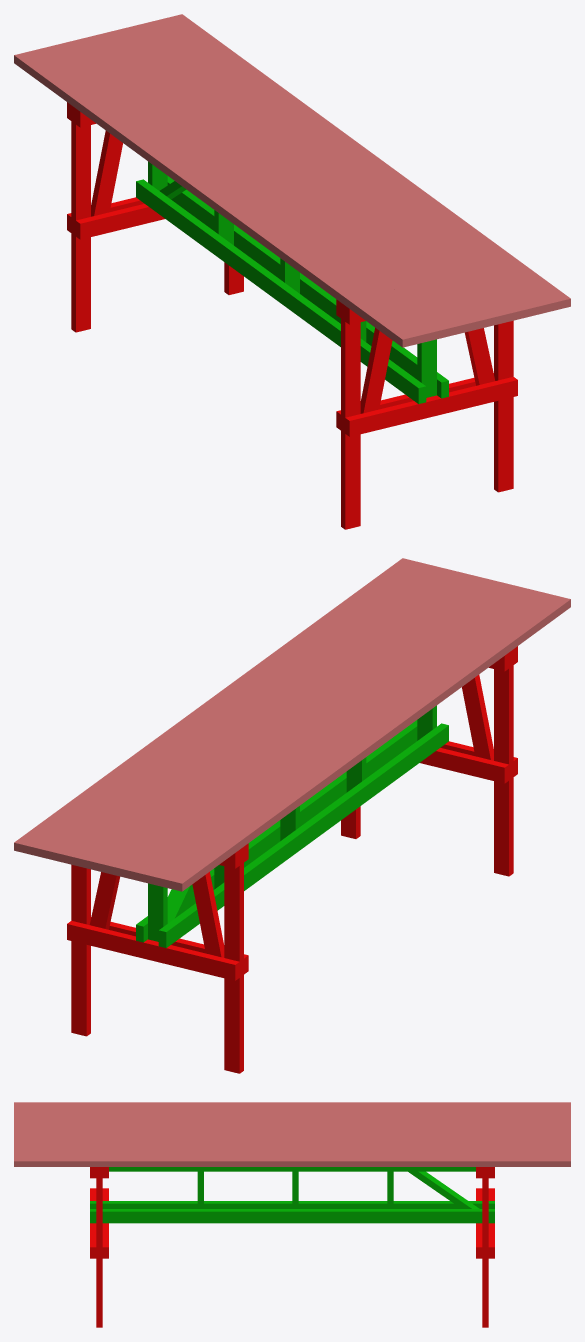
Rendered from result.glb.
3 renders of one model, top to bottom at view 1: azimuth 30°, elevation 25°; view 2: azimuth 150°, elevation 25°; view 3: azimuth 270°, elevation 25°, orthographic. The views are drawn at different scales.
Parts seen in each view (by area): view 1: 153c142e-4c3f-4437-ba18-6dc847d15246__Box, 3b492dfa-0148-4eca-9b37-8263c32f93e4__undefined, ff1ac09c-ed41-472f-8115-2061b1867826__undefined, 0976eb12-b027-47eb-9160-0bf002e135e6__undefined, b728457c-2e60-4694-9ccc-194f85446cb2__undefined, c7bb233d-7633-445a-a23d-edd0d2150dd2__undefined, d456789b-2543-49ef-a8cc-2dc8a175d5ac__undefined, e0387e18-4081-4a1e-be42-149b58d63504__undefined, 838b8b4c-b316-41e1-b98a-a965a472fc9f__undefined, 049cb40d-3da2-43ea-8db9-a3e9776c6d36__undefined, e0d9521e-8773-472a-b95b-06d625c52776__undefined, e1a9ec4c-1ab0-4561-b561-e5ddaacb80b7__strutH (+10 smaller); view 2: 153c142e-4c3f-4437-ba18-6dc847d15246__Box, 3b492dfa-0148-4eca-9b37-8263c32f93e4__undefined, ff1ac09c-ed41-472f-8115-2061b1867826__undefined, 0976eb12-b027-47eb-9160-0bf002e135e6__undefined, b728457c-2e60-4694-9ccc-194f85446cb2__undefined, c7bb233d-7633-445a-a23d-edd0d2150dd2__undefined, d456789b-2543-49ef-a8cc-2dc8a175d5ac__undefined, e0387e18-4081-4a1e-be42-149b58d63504__undefined, 838b8b4c-b316-41e1-b98a-a965a472fc9f__undefined, 049cb40d-3da2-43ea-8db9-a3e9776c6d36__undefined, e0d9521e-8773-472a-b95b-06d625c52776__undefined, e1a9ec4c-1ab0-4561-b561-e5ddaacb80b7__strutH (+10 smaller); view 3: b728457c-2e60-4694-9ccc-194f85446cb2__undefined, 858e2cb6-ac0d-4d1e-80ef-26d87195b0ac__strutH, 153c142e-4c3f-4437-ba18-6dc847d15246__Box, 838b8b4c-b316-41e1-b98a-a965a472fc9f__undefined, 0976eb12-b027-47eb-9160-0bf002e135e6__undefined, 049cb40d-3da2-43ea-8db9-a3e9776c6d36__undefined, ff1ac09c-ed41-472f-8115-2061b1867826__undefined, c7bb233d-7633-445a-a23d-edd0d2150dd2__undefined, d456789b-2543-49ef-a8cc-2dc8a175d5ac__undefined, 3b492dfa-0148-4eca-9b37-8263c32f93e4__undefined, e0387e18-4081-4a1e-be42-149b58d63504__undefined, e0d9521e-8773-472a-b95b-06d625c52776__undefined (+9 smaller).
Boxes of the visible parts, x1,y1,x2,y2 form: 153c142e-4c3f-4437-ba18-6dc847d15246__Box: (14,51,417,347); 3b492dfa-0148-4eca-9b37-8263c32f93e4__undefined: (121,25,524,321); ff1ac09c-ed41-472f-8115-2061b1867826__undefined: (75,36,479,332); 0976eb12-b027-47eb-9160-0bf002e135e6__undefined: (45,44,448,339); b728457c-2e60-4694-9ccc-194f85446cb2__undefined: (167,14,570,310); c7bb233d-7633-445a-a23d-edd0d2150dd2__undefined: (91,33,494,328); d456789b-2543-49ef-a8cc-2dc8a175d5ac__undefined: (106,29,509,325); e0387e18-4081-4a1e-be42-149b58d63504__undefined: (137,21,540,317); 838b8b4c-b316-41e1-b98a-a965a472fc9f__undefined: (29,48,433,343); 049cb40d-3da2-43ea-8db9-a3e9776c6d36__undefined: (60,40,463,336); e0d9521e-8773-472a-b95b-06d625c52776__undefined: (152,18,555,313); e1a9ec4c-1ab0-4561-b561-e5ddaacb80b7__strutH: (136,179,426,403); 153c142e-4c3f-4437-ba18-6dc847d15246__Box: (167,595,570,891); 3b492dfa-0148-4eca-9b37-8263c32f93e4__undefined: (60,569,463,865); ff1ac09c-ed41-472f-8115-2061b1867826__undefined: (105,580,509,876); 0976eb12-b027-47eb-9160-0bf002e135e6__undefined: (136,588,539,883); b728457c-2e60-4694-9ccc-194f85446cb2__undefined: (14,558,417,854); c7bb233d-7633-445a-a23d-edd0d2150dd2__undefined: (90,577,493,872); d456789b-2543-49ef-a8cc-2dc8a175d5ac__undefined: (75,573,478,869); e0387e18-4081-4a1e-be42-149b58d63504__undefined: (44,565,447,861); 838b8b4c-b316-41e1-b98a-a965a472fc9f__undefined: (151,592,555,887); 049cb40d-3da2-43ea-8db9-a3e9776c6d36__undefined: (121,584,524,880); e0d9521e-8773-472a-b95b-06d625c52776__undefined: (29,562,432,857); e1a9ec4c-1ab0-4561-b561-e5ddaacb80b7__strutH: (158,723,448,947); b728457c-2e60-4694-9ccc-194f85446cb2__undefined: (14,1156,570,1166); 858e2cb6-ac0d-4d1e-80ef-26d87195b0ac__strutH: (90,1209,494,1223); 153c142e-4c3f-4437-ba18-6dc847d15246__Box: (14,1102,570,1107); 838b8b4c-b316-41e1-b98a-a965a472fc9f__undefined: (14,1107,570,1112); 0976eb12-b027-47eb-9160-0bf002e135e6__undefined: (14,1113,570,1118); 049cb40d-3da2-43ea-8db9-a3e9776c6d36__undefined: (14,1118,570,1123); ff1ac09c-ed41-472f-8115-2061b1867826__undefined: (14,1123,570,1128); c7bb233d-7633-445a-a23d-edd0d2150dd2__undefined: (14,1129,570,1134); d456789b-2543-49ef-a8cc-2dc8a175d5ac__undefined: (14,1134,570,1139); 3b492dfa-0148-4eca-9b37-8263c32f93e4__undefined: (14,1140,570,1145); e0387e18-4081-4a1e-be42-149b58d63504__undefined: (14,1145,570,1150); e0d9521e-8773-472a-b95b-06d625c52776__undefined: (14,1150,570,1155).
Bounding box in the file's own units: 550 × 725 × 2200.
